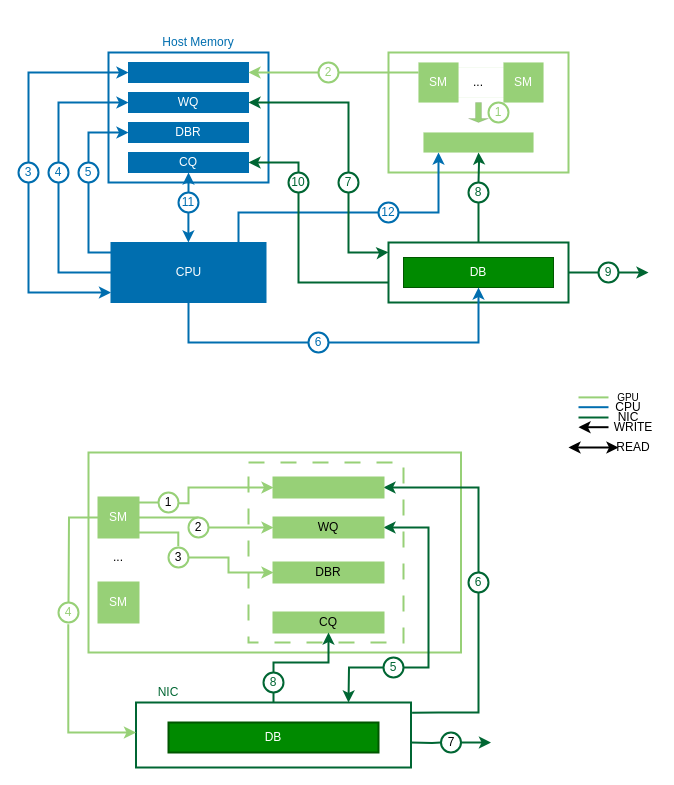
Some shapes in this 674 by 785 pixel diagram are drawn without their labels. The shapes that lost their labels are listed below. From the top down, each one's centre as x and y in pixels, then its label:
the point at 188,72: Proxy Buffer
the point at 478,142: Memory
the point at 328,487: Data
